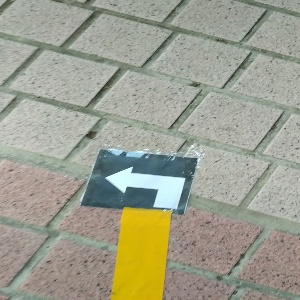left: (80, 148, 199, 213)
